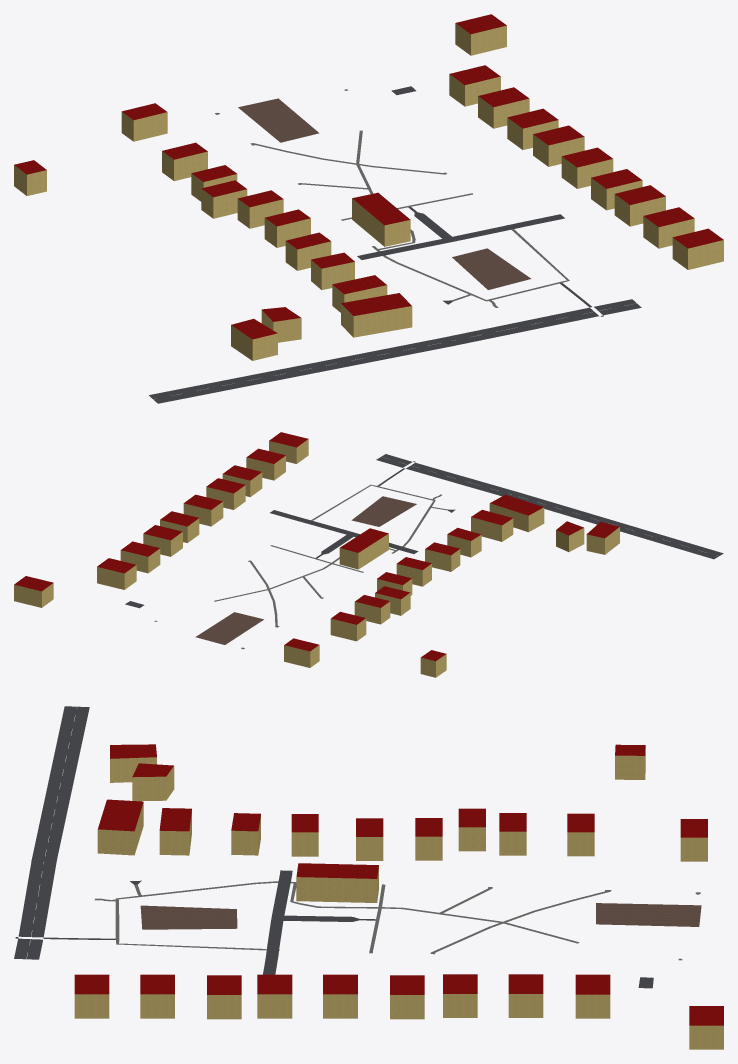
The model's file is district_-1_-2.glb.
3 views of the same model, one above another, from view 1: azimuth 30°, elevation 25°; view 2: azimuth 150°, elevation 25°; view 3: azimuth 270°, elevation 25° (orthographic). The views are drawn at different scales.
Visible parts, largest first — view 1: Road Карачинская улица, Building w44036581, Building w474770235, SurfaceArea w1162516951, SurfaceArea w1153941648, Building w44036725, Building w625226214, Building w625328542, Building w625226213, Building w625226212, Building w44036700, Building w625226210 (+17 smaller); view 2: Road Карачинская улица, Building w474770235, Building w44036581, SurfaceArea w1162516951, Building w103496106, SurfaceArea w1153941648, Building w44036725, Building w44036700, Building w625226212, Building w625226208, Building w625226215, Building w625226211 (+16 smaller); view 3: Road Карачинская улица, Building w474770235, SurfaceArea w1162516951, Building w44036581, SurfaceArea w1153941648, Building w625226211, Building w625226214, Building w44036700, Building w625226208, Building w625226210, Building w625226215, Building w625226212 (+17 smaller).
Part boxes in pixels (x1,y1,x2,y2): Road Карачинская улица: (149, 299, 641, 403); Building w44036581: (341, 293, 412, 337); Building w474770235: (352, 192, 410, 246); SurfaceArea w1162516951: (238, 98, 319, 142); SurfaceArea w1153941648: (452, 248, 530, 289); Building w44036725: (455, 14, 506, 55); Building w625226214: (672, 228, 723, 269); Building w625328542: (231, 318, 277, 360); Building w625226213: (614, 185, 665, 226); Building w625226212: (561, 147, 613, 188); Building w44036700: (449, 65, 500, 106); Building w625226210: (533, 125, 584, 166); Road Карачинская улица: (376, 454, 723, 559); Building w474770235: (339, 528, 388, 569); Building w44036581: (489, 494, 544, 532); SurfaceArea w1162516951: (195, 612, 263, 644); Building w103496106: (471, 509, 513, 541); SurfaceArea w1153941648: (351, 496, 416, 526); Building w44036725: (14, 576, 53, 607); Building w44036700: (97, 558, 136, 589); Building w625226212: (183, 494, 223, 526); Building w625226208: (120, 541, 160, 573); Building w625226215: (246, 448, 285, 480); Building w625226211: (206, 478, 245, 509); Road Карачинская улица: (14, 706, 89, 959); Building w474770235: (296, 863, 378, 902); SurfaceArea w1162516951: (596, 903, 701, 926); Building w44036581: (97, 799, 143, 855); SurfaceArea w1153941648: (140, 905, 237, 929); Building w625226211: (257, 974, 292, 1018); Building w625226214: (74, 974, 109, 1018); Building w44036700: (575, 974, 610, 1018); Building w625226208: (508, 974, 543, 1017); Building w625226210: (390, 975, 424, 1019); Building w625226215: (140, 974, 174, 1018); Building w625226212: (323, 974, 357, 1018).
Size of the model in its own units: 229 by 7.5 by 200.
6 materials, 6 textured.
